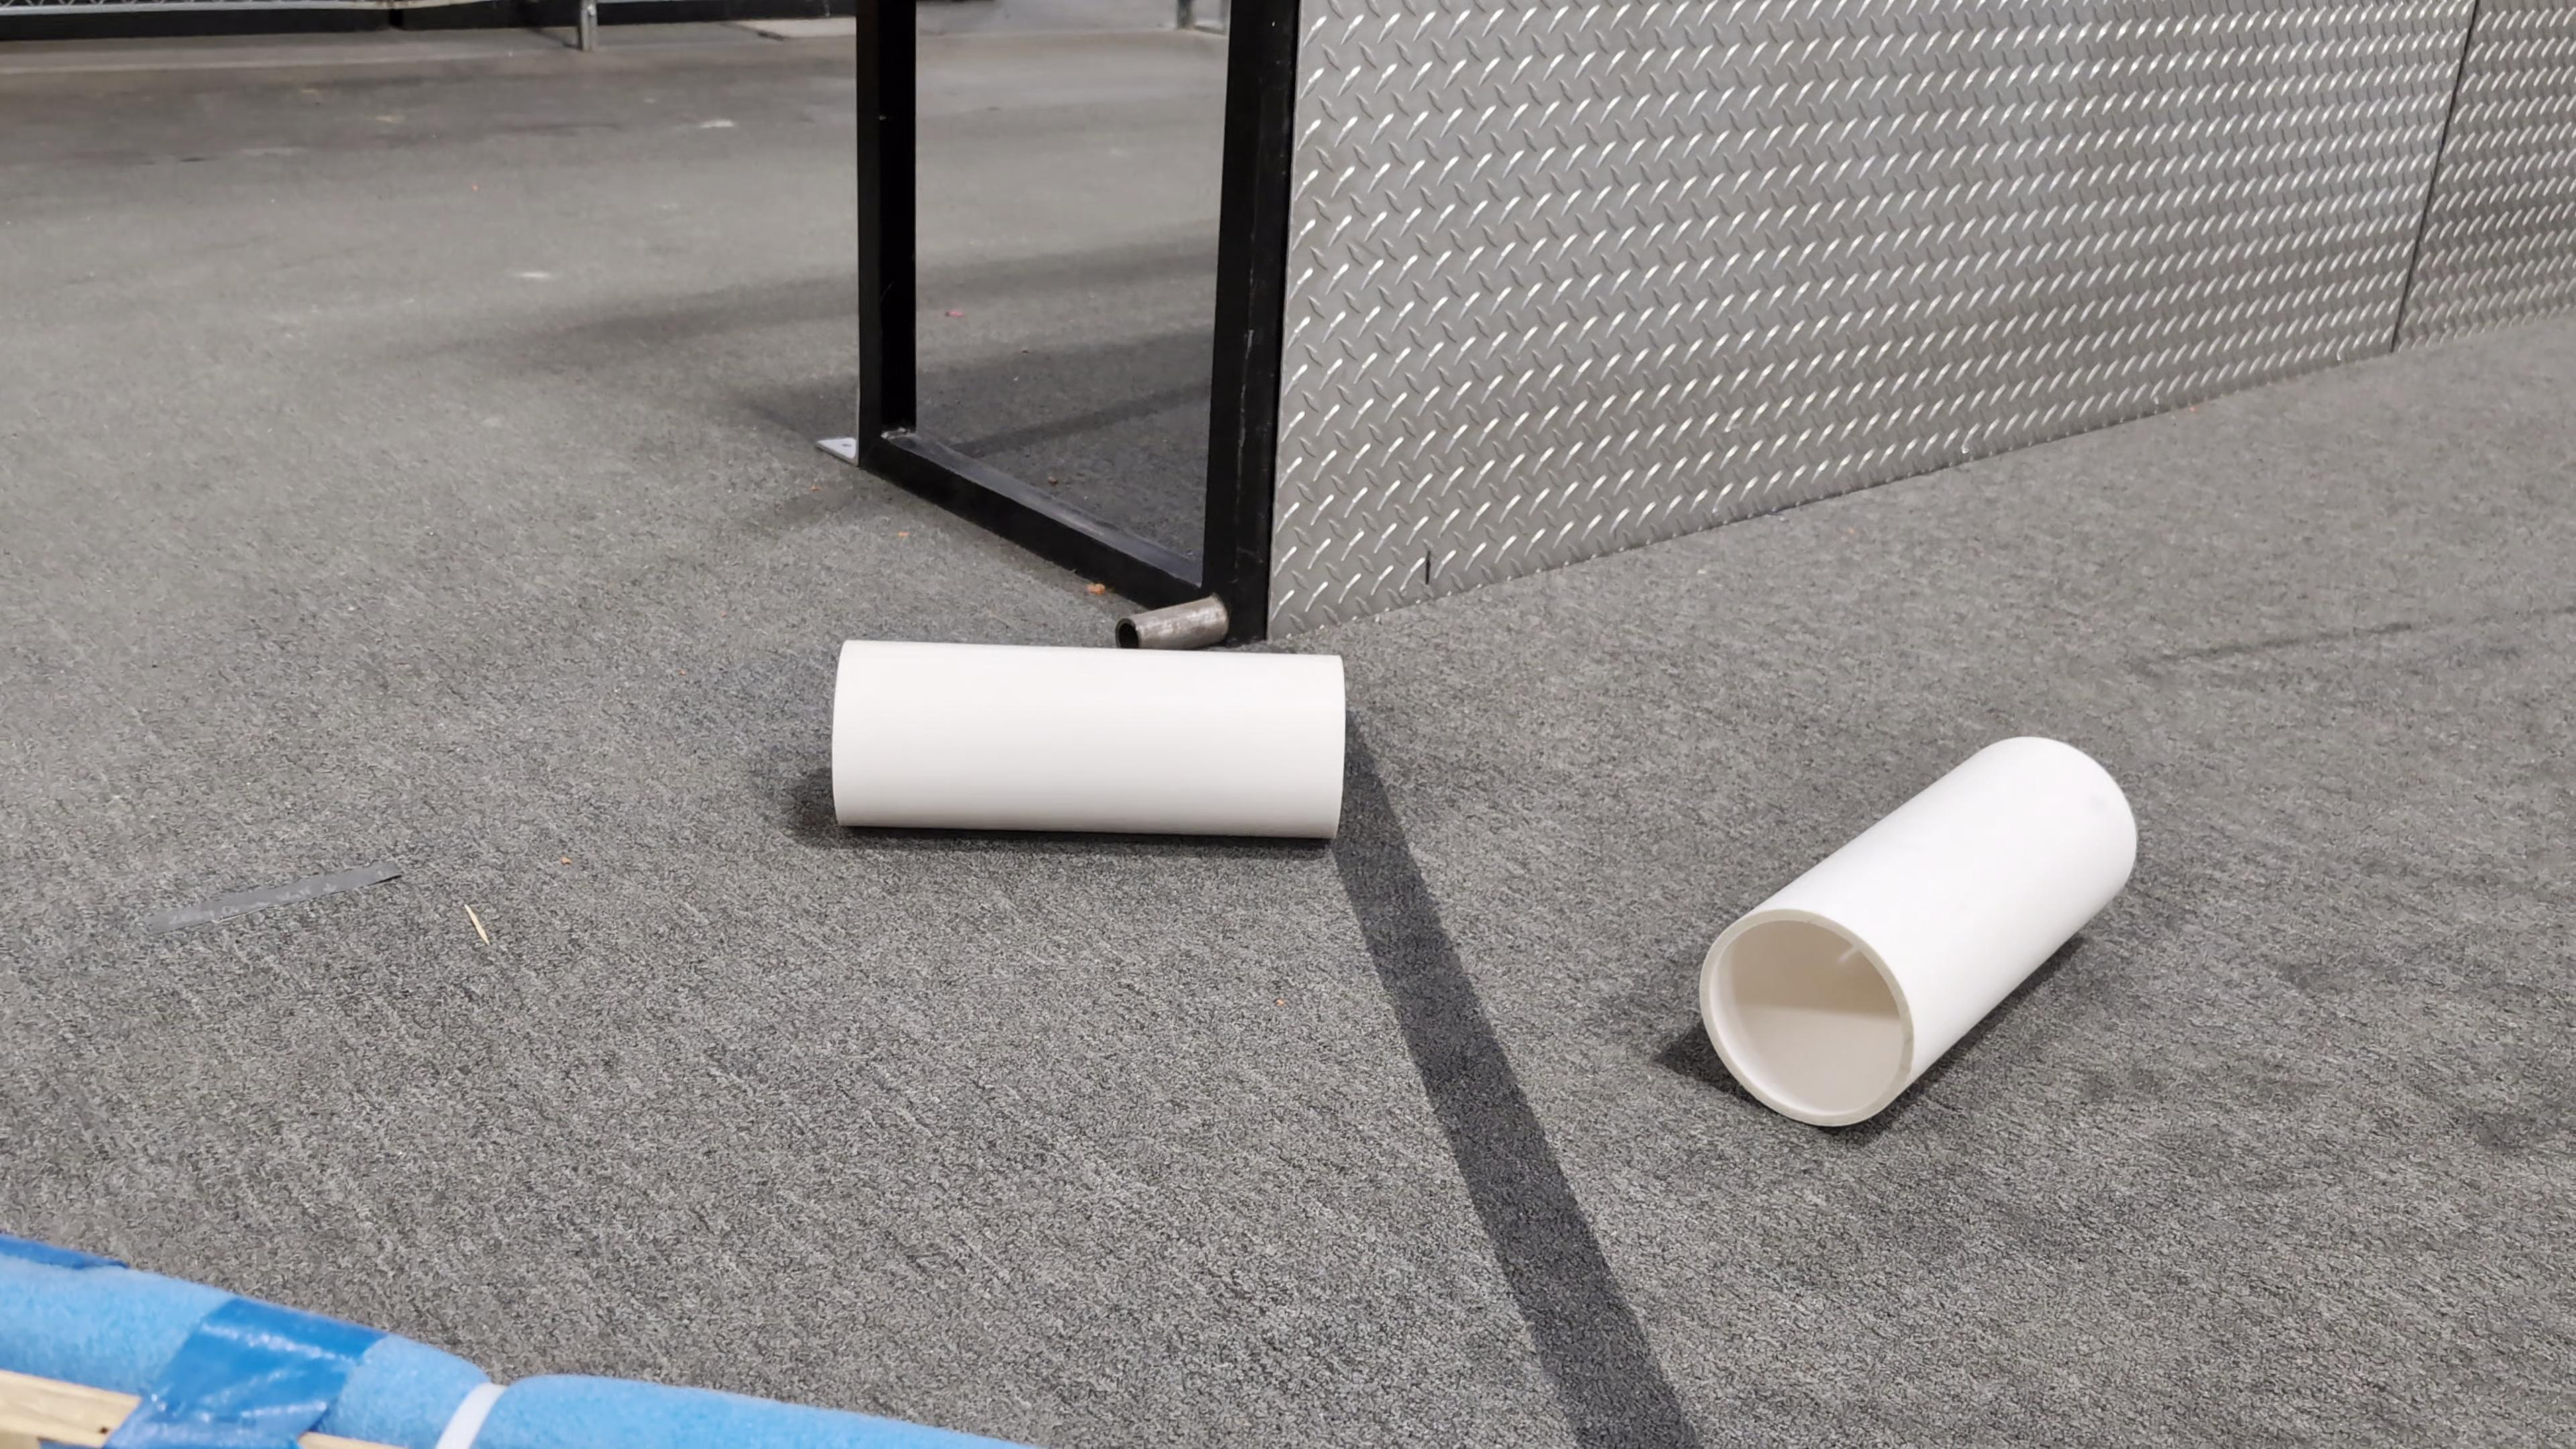coral: (1704, 738, 2134, 1129), (833, 640, 1346, 840)
